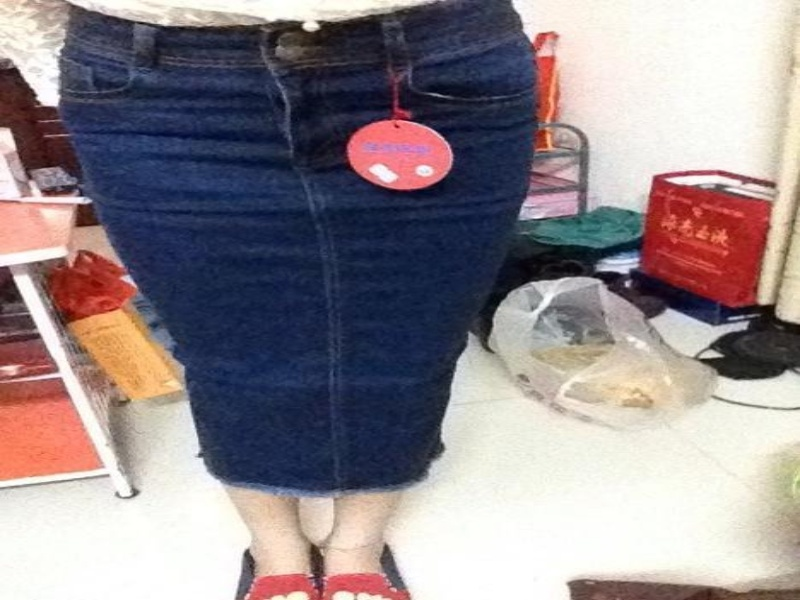long_sleeved_shirt: (3, 1, 492, 110)
skirt: (50, 1, 545, 502)
